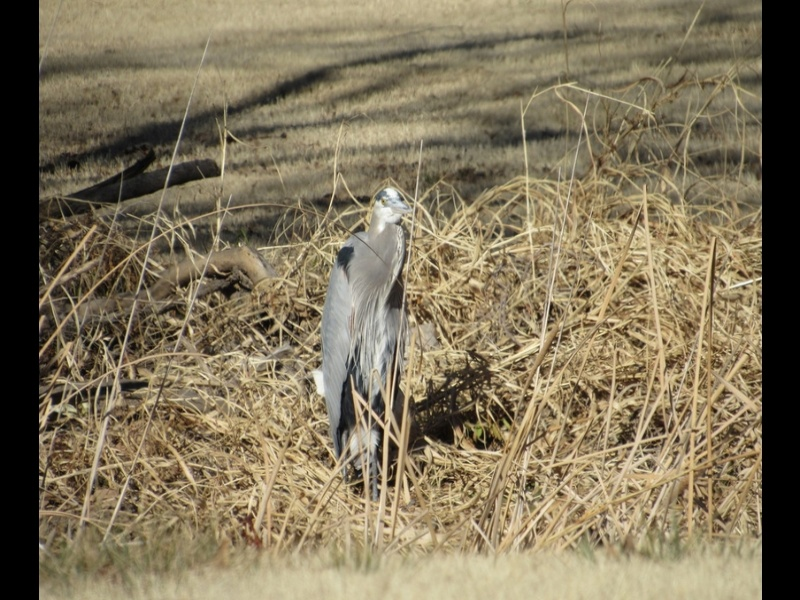heron: (316, 185, 426, 496)
